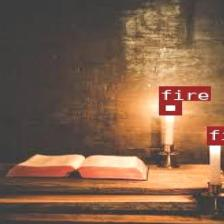fire: (158, 100, 180, 115), (206, 126, 223, 144)
